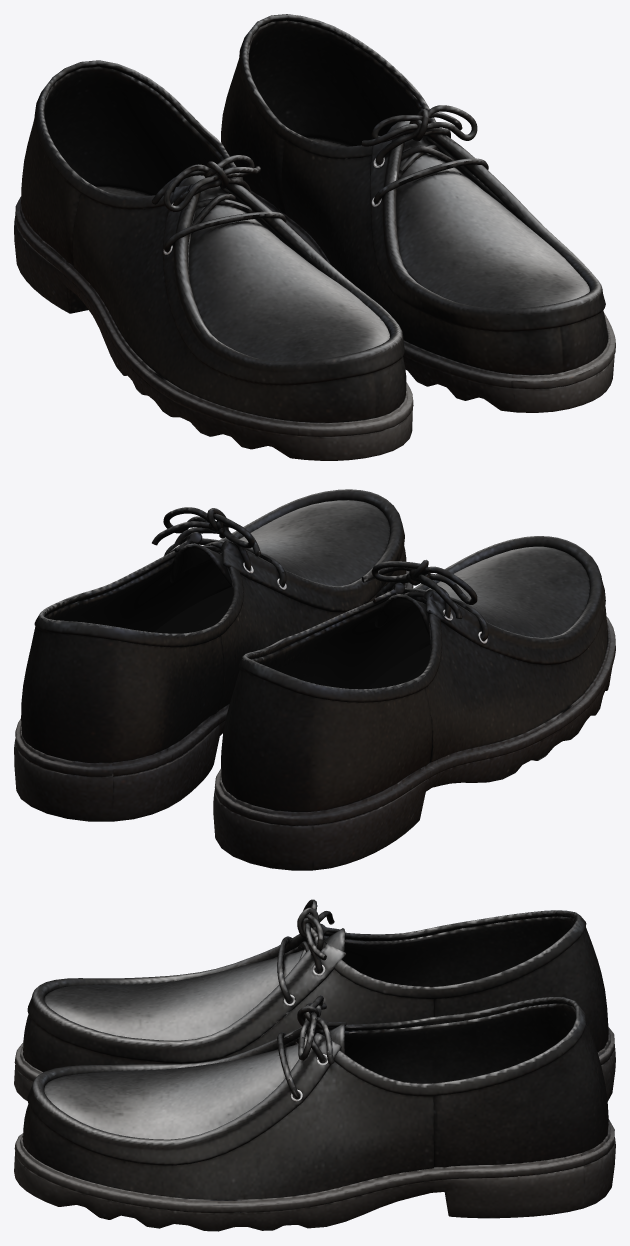
Rendered from Product_Shoes_0.3x0.1x0.3.glb.
3 views of the same model, one above another, from view 1: azimuth 30°, elevation 25°; view 2: azimuth 150°, elevation 25°; view 3: azimuth 270°, elevation 25° (orthographic). The views are drawn at different scales.
Visible parts, largest first — view 1: mens_derby_shoes_left_leather_004_mesh_Baked; view 2: mens_derby_shoes_left_leather_004_mesh_Baked; view 3: mens_derby_shoes_left_leather_004_mesh_Baked.
Part boxes in pixels (box(x1,y1,x2,y2)): mens_derby_shoes_left_leather_004_mesh_Baked: box(14, 14, 615, 460); mens_derby_shoes_left_leather_004_mesh_Baked: box(14, 489, 615, 870); mens_derby_shoes_left_leather_004_mesh_Baked: box(14, 899, 615, 1231).
Size of the model in its own units: 0.2229 by 0.0979 by 0.2944.
Materials: 1 (1 with a texture image).
